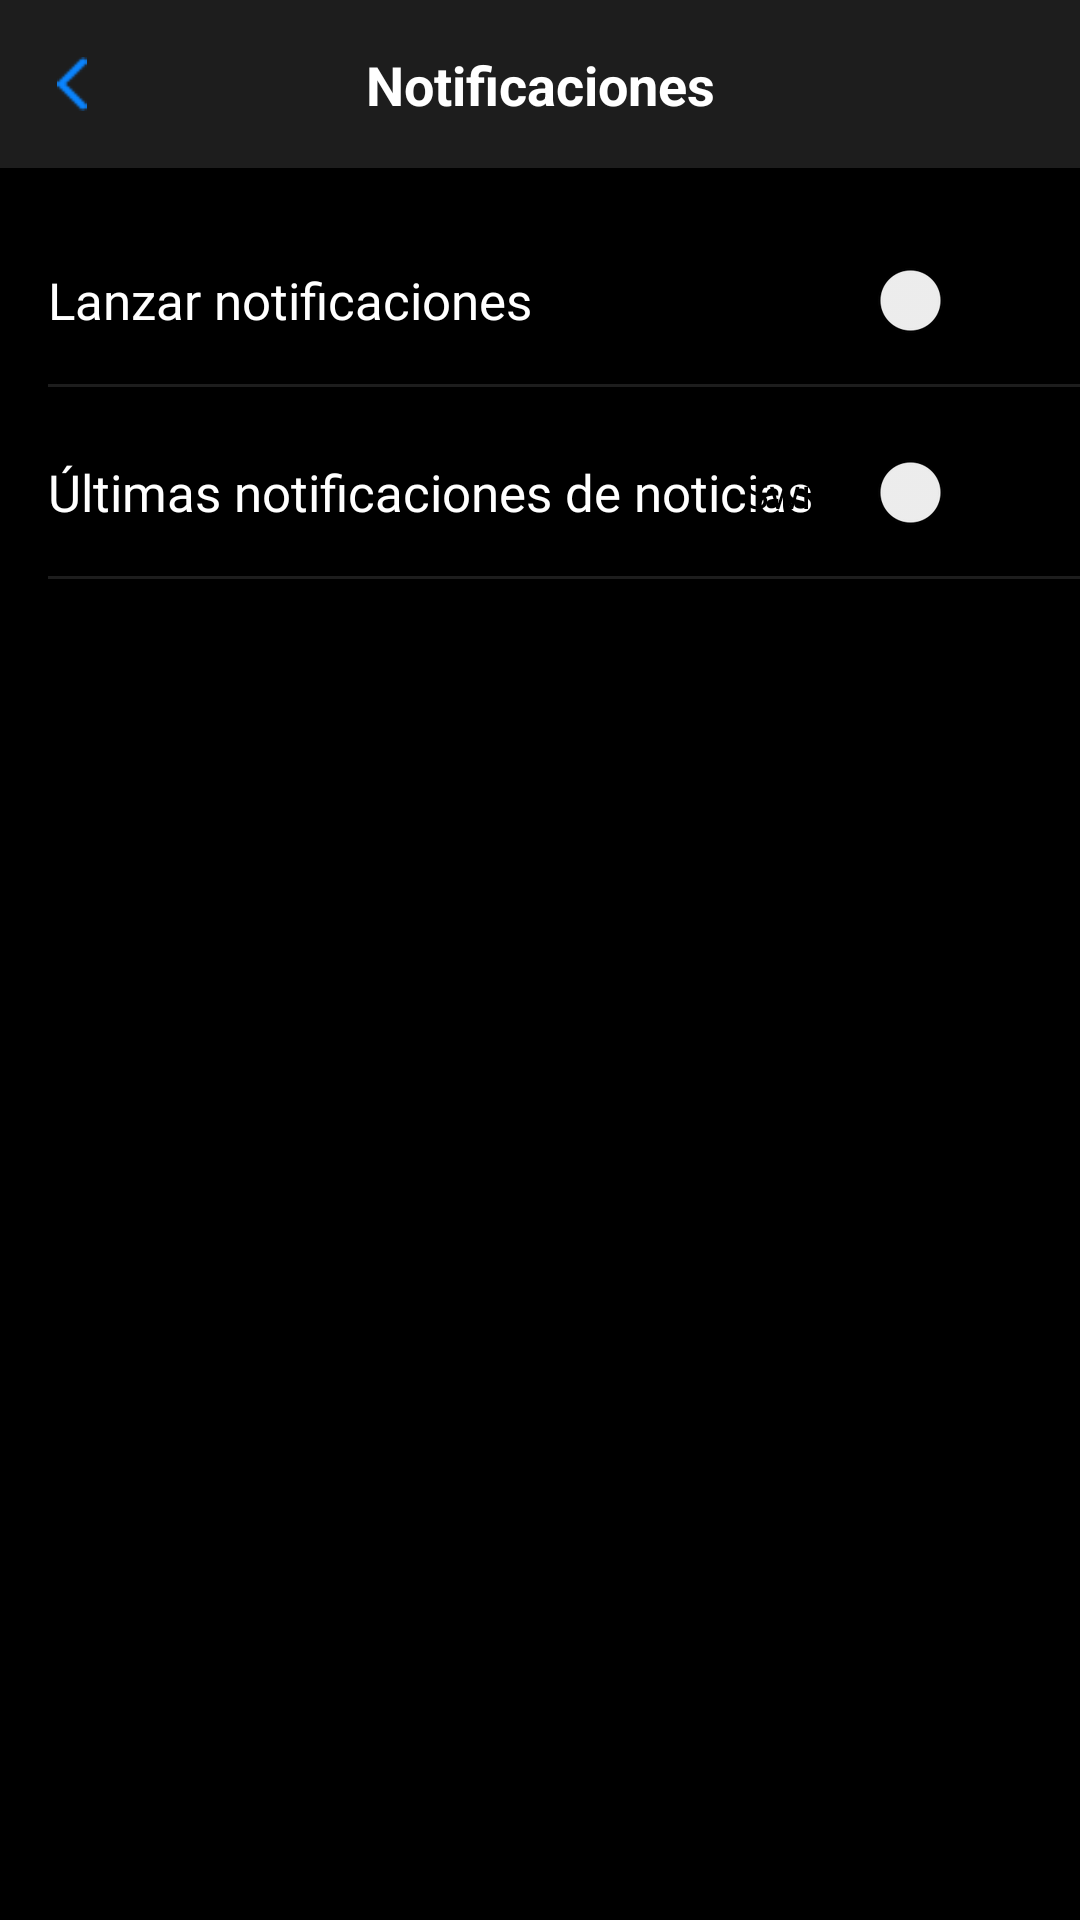

Where to tap for icons on this 1080*1920 app screen, as [x,y]:
chevron left: [72,84]
